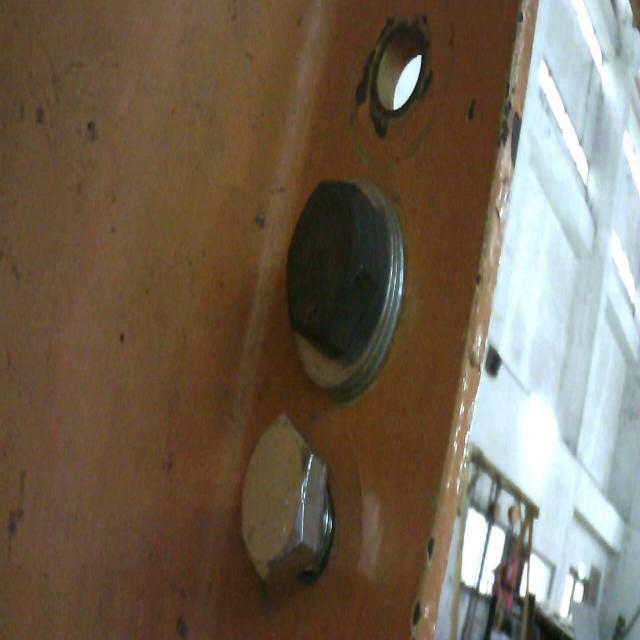Loose bolt: (242, 419, 336, 587)
Missing bolt: (374, 25, 428, 116)
Regular bolt: (287, 174, 410, 404)
